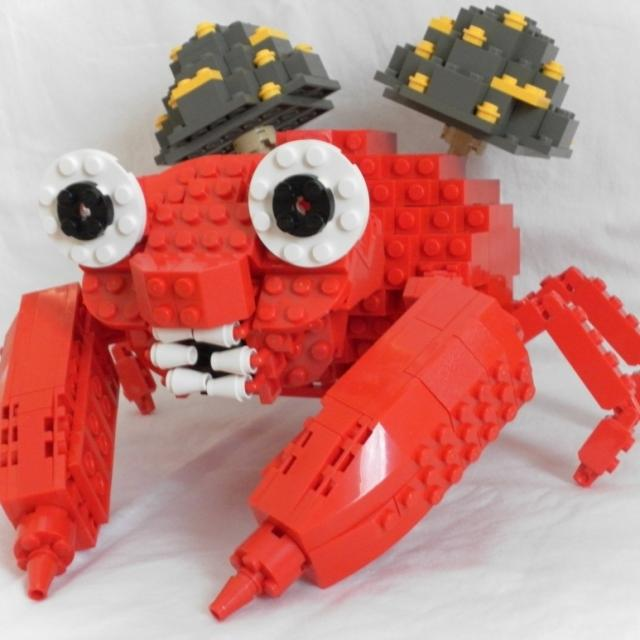Paras: (19, 15, 581, 493)
